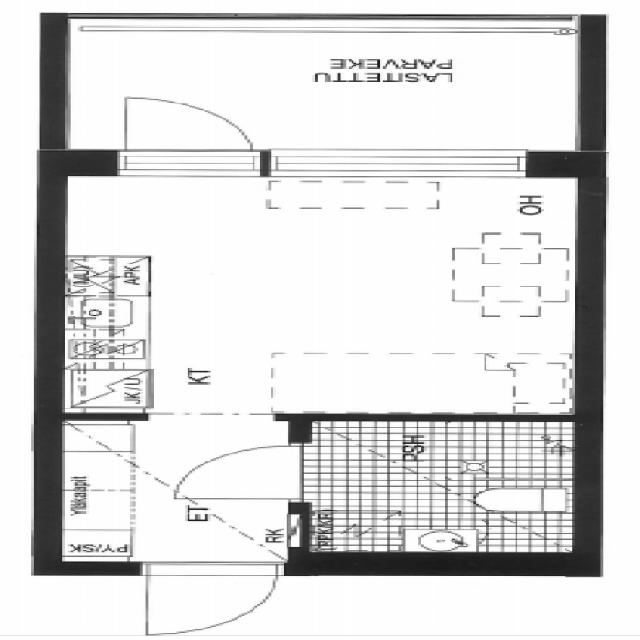door: (129, 558, 288, 638), (110, 92, 268, 156), (180, 438, 322, 504)
window: (96, 153, 278, 181)
zone: (64, 174, 553, 424), (288, 412, 585, 560)
